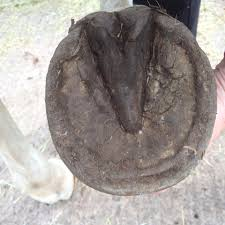horsesole: (45, 21, 217, 195)
